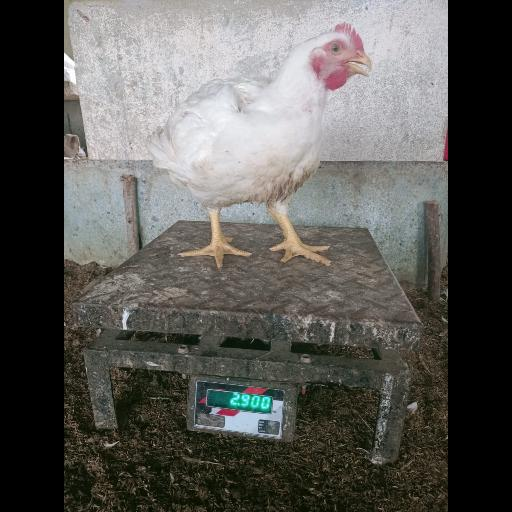chick: (145, 22, 374, 268)
